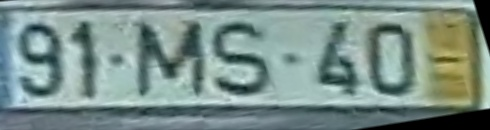0: (363, 21, 418, 99)
1: (65, 19, 100, 103)
4: (312, 18, 366, 99)
9: (14, 21, 67, 101)
M: (134, 19, 209, 100)
S: (207, 17, 274, 101)
